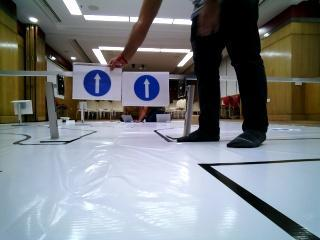straight: (75, 64, 121, 101), (125, 73, 166, 106)
